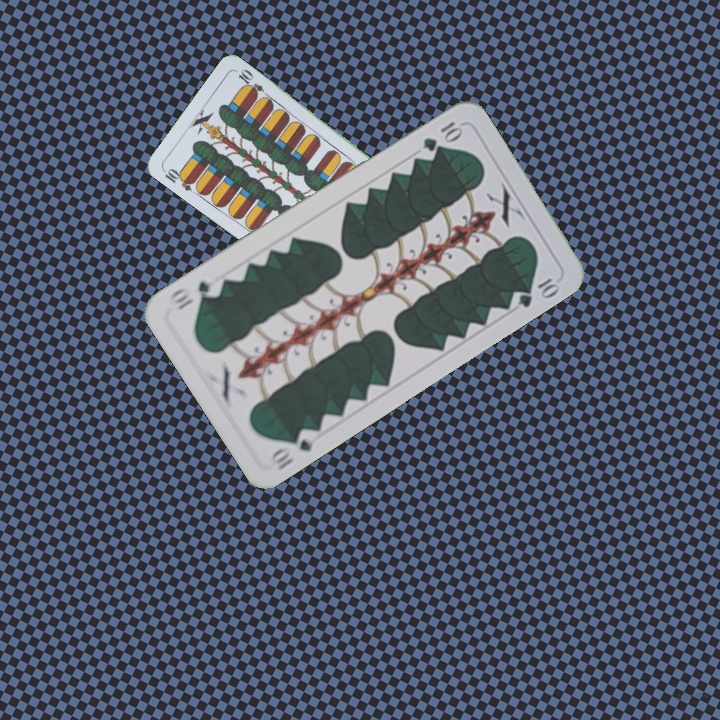E10: (159, 164, 197, 194)
G10: (264, 424, 321, 473), (419, 117, 465, 154)
